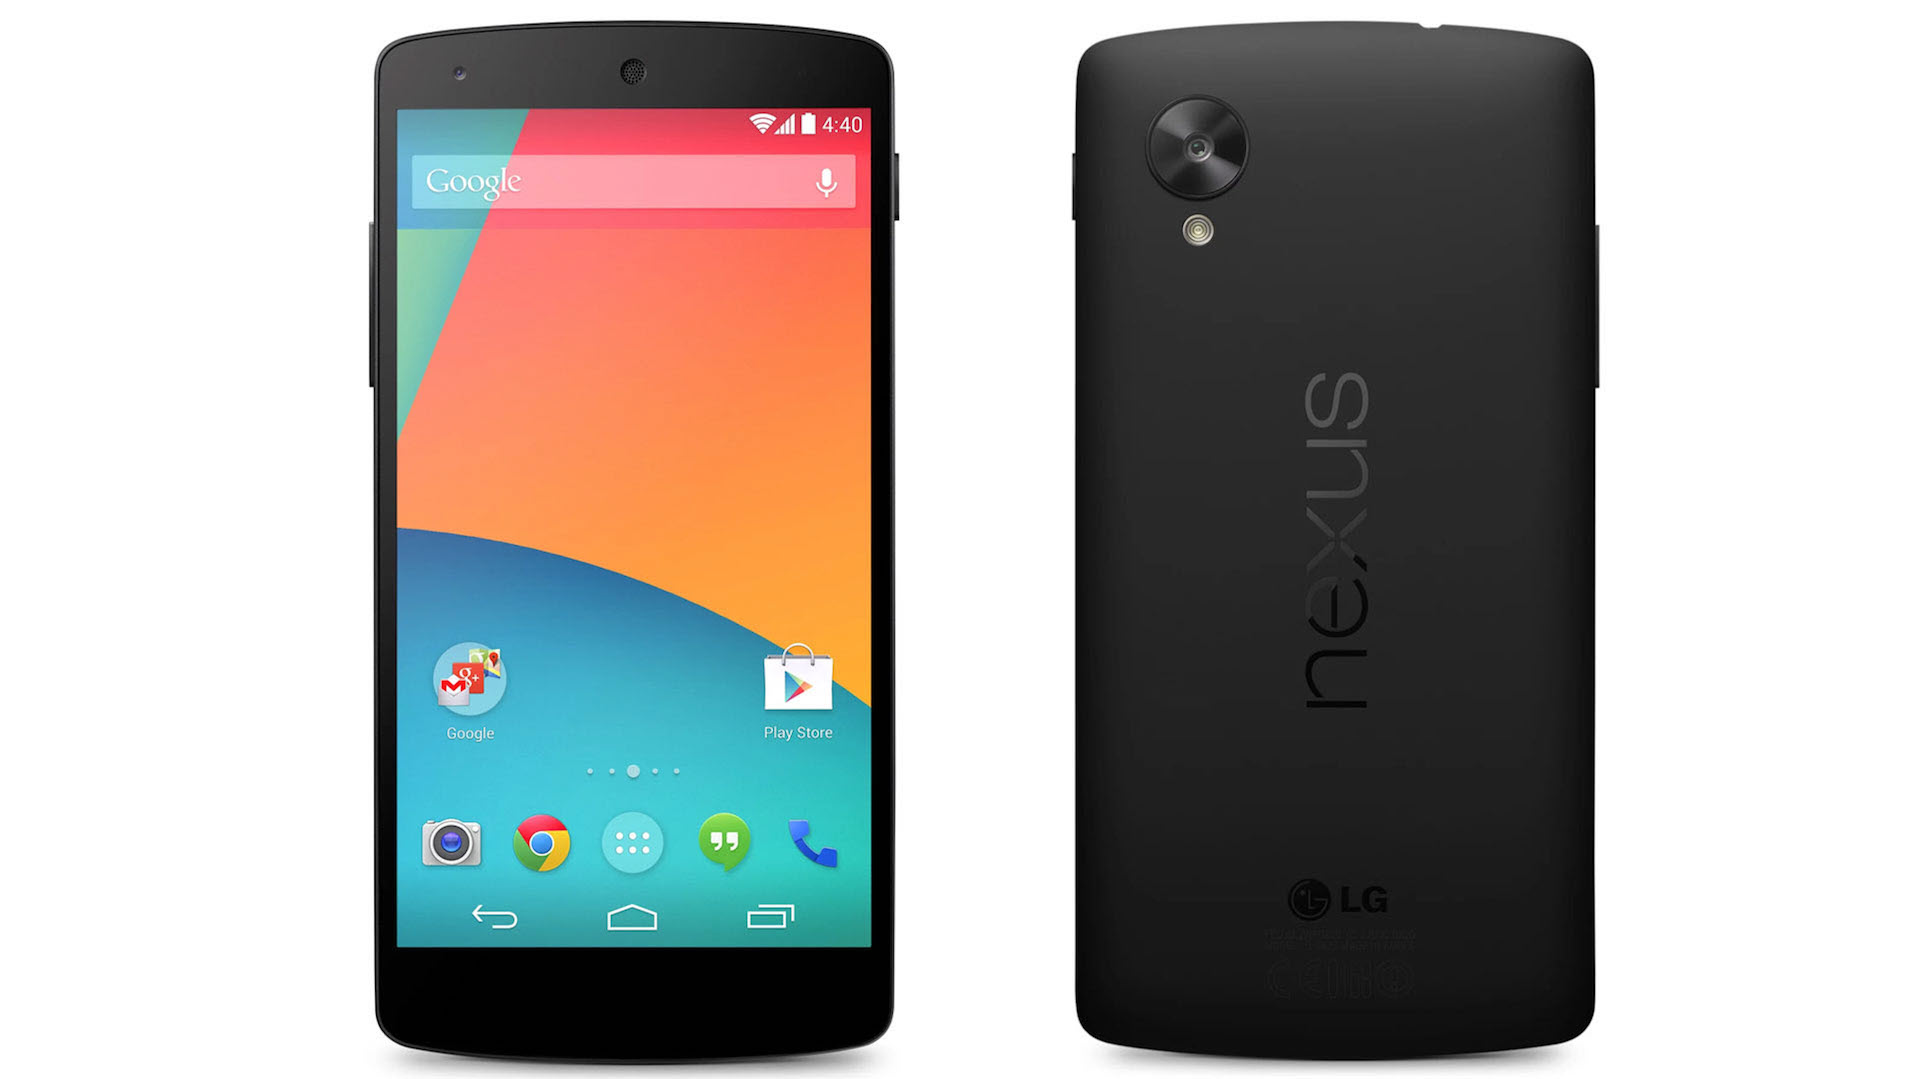smartphone: (367, 18, 902, 1068), (1068, 18, 1604, 1064)
